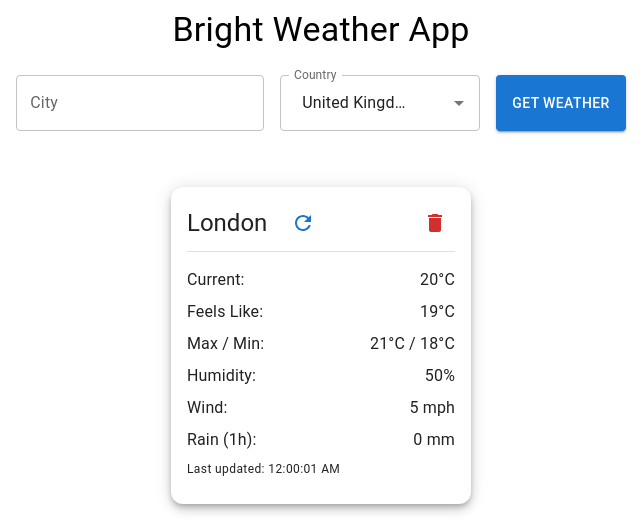
Test: Weather component › refreshes a city's weather when refresh button is clicked
Click the button named "refresh".
click(303, 223)  # box [283,203,323,243]
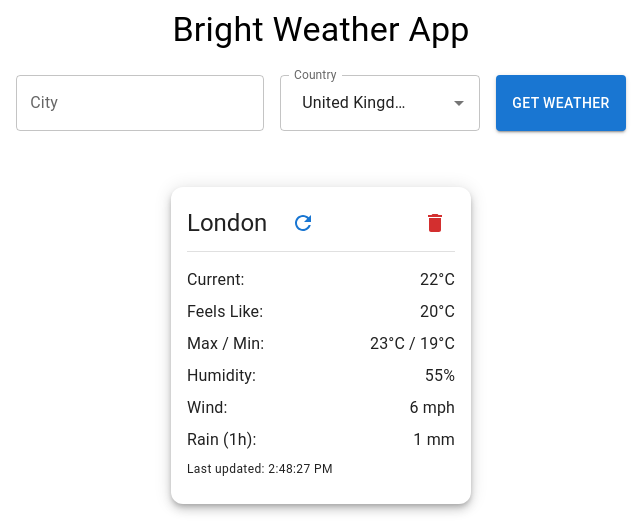
Result: the text "22°C" is shown at [420,268,455,292]
Result: the text "1 mm" is shown at [413,428,455,452]
